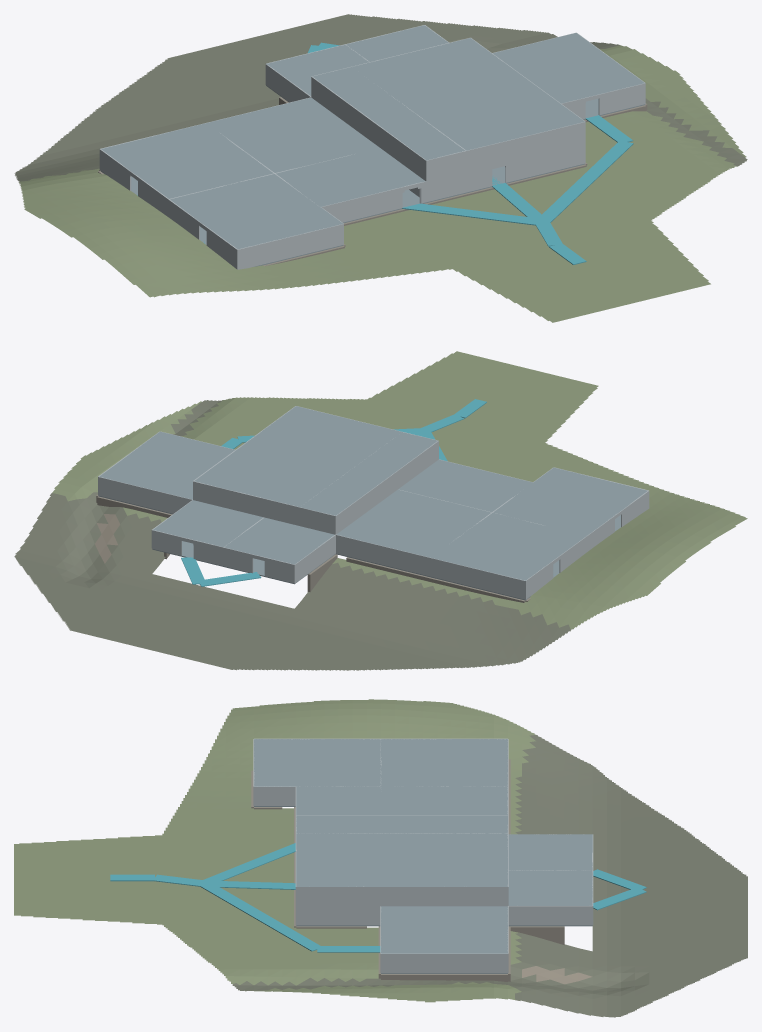
File: supported-arrival.glb
The picture shows the model from 3 angles, top to bottom: view 1: azimuth 30°, elevation 25°; view 2: azimuth 150°, elevation 25°; view 3: azimuth 270°, elevation 25°; orthographic projection. The views are drawn at different scales.
Visible parts, largest first — view 1: Saved editor macroterrain WLD-13, Ceiling cap processing, Ceiling cap bunk, Ceiling cap boiler, Ceiling cap mess, Ceiling cap cold, Ceiling cap wash, Flat route shell Wall processing S.001, Ceiling cap gallery, Flat route shell Wall processing S, Wall bunk S, Ceiling cap office (+14 smaller); view 2: Saved editor macroterrain WLD-13, Ceiling cap processing, Ceiling cap mess, Ceiling cap boiler, Ceiling cap bunk, Ceiling cap cold, Ceiling cap wash, Ceiling cap gallery, Ceiling cap office, Ceiling cap stores, Wall mess N, Wall boiler N (+12 smaller); view 3: Saved editor macroterrain WLD-13, Ceiling cap processing, Ceiling cap cold, Ceiling cap bunk, Ceiling cap mess, Flat route shell Wall processing E.001, Ceiling cap boiler, Ceiling cap office, Ceiling cap stores, Wall cold E, Ceiling cap wash, Wall stores E (+6 smaller).
Part boxes in pixels (box(x1,y1,x2,y2)): Saved editor macroterrain WLD-13: box(14, 14, 747, 322); Ceiling cap processing: box(313, 38, 584, 159); Ceiling cap bunk: box(170, 174, 342, 249); Ceiling cap boiler: box(206, 97, 379, 172); Ceiling cap mess: box(101, 123, 273, 198); Ceiling cap cold: box(493, 33, 644, 103); Ceiling cap wash: box(276, 148, 425, 206); Flat route shell Wall processing S.001: box(505, 122, 585, 182); Ceiling cap gallery: box(312, 67, 439, 160); Flat route shell Wall processing S: box(426, 144, 492, 201); Wall bunk S: box(237, 224, 343, 269); Ceiling cap office: box(266, 44, 368, 95); Saved editor macroterrain WLD-13: box(14, 351, 747, 670); Ceiling cap processing: box(194, 406, 437, 515); Ceiling cap mess: box(431, 513, 586, 580); Ceiling cap boiler: box(336, 489, 491, 557); Ceiling cap bunk: box(493, 467, 647, 535); Ceiling cap cold: box(99, 431, 234, 499); Ceiling cap wash: box(398, 459, 532, 512); Ceiling cap gallery: box(300, 438, 435, 515); Ceiling cap office: box(224, 517, 334, 564); Ceiling cap stores: box(153, 500, 263, 546); Wall mess N: box(430, 557, 525, 599); Wall boiler N: box(336, 534, 430, 576); Saved editor macroterrain WLD-13: box(14, 699, 747, 1017); Ceiling cap processing: box(296, 815, 507, 886); Ceiling cap cold: box(381, 906, 507, 953); Ceiling cap bunk: box(254, 739, 380, 786); Ceiling cap mess: box(381, 739, 507, 786); Flat route shell Wall processing E.001: box(296, 886, 439, 925); Ceiling cap boiler: box(381, 786, 507, 814); Ceiling cap office: box(508, 834, 592, 870); Ceiling cap stores: box(508, 870, 592, 905); Wall cold E: box(381, 953, 507, 973); Ceiling cap wash: box(296, 786, 380, 814); Wall stores E: box(508, 906, 592, 925).
Bounding box in the file's own units: 97 × 11.19 × 104.
